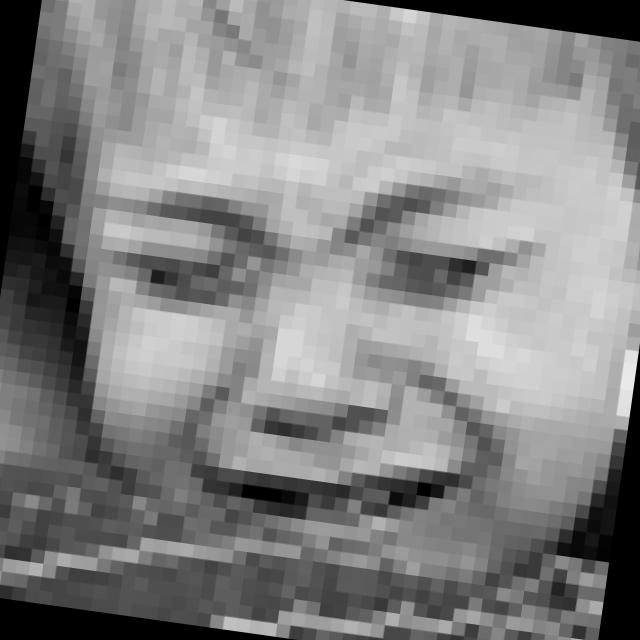sad: (52, 114, 554, 560)
